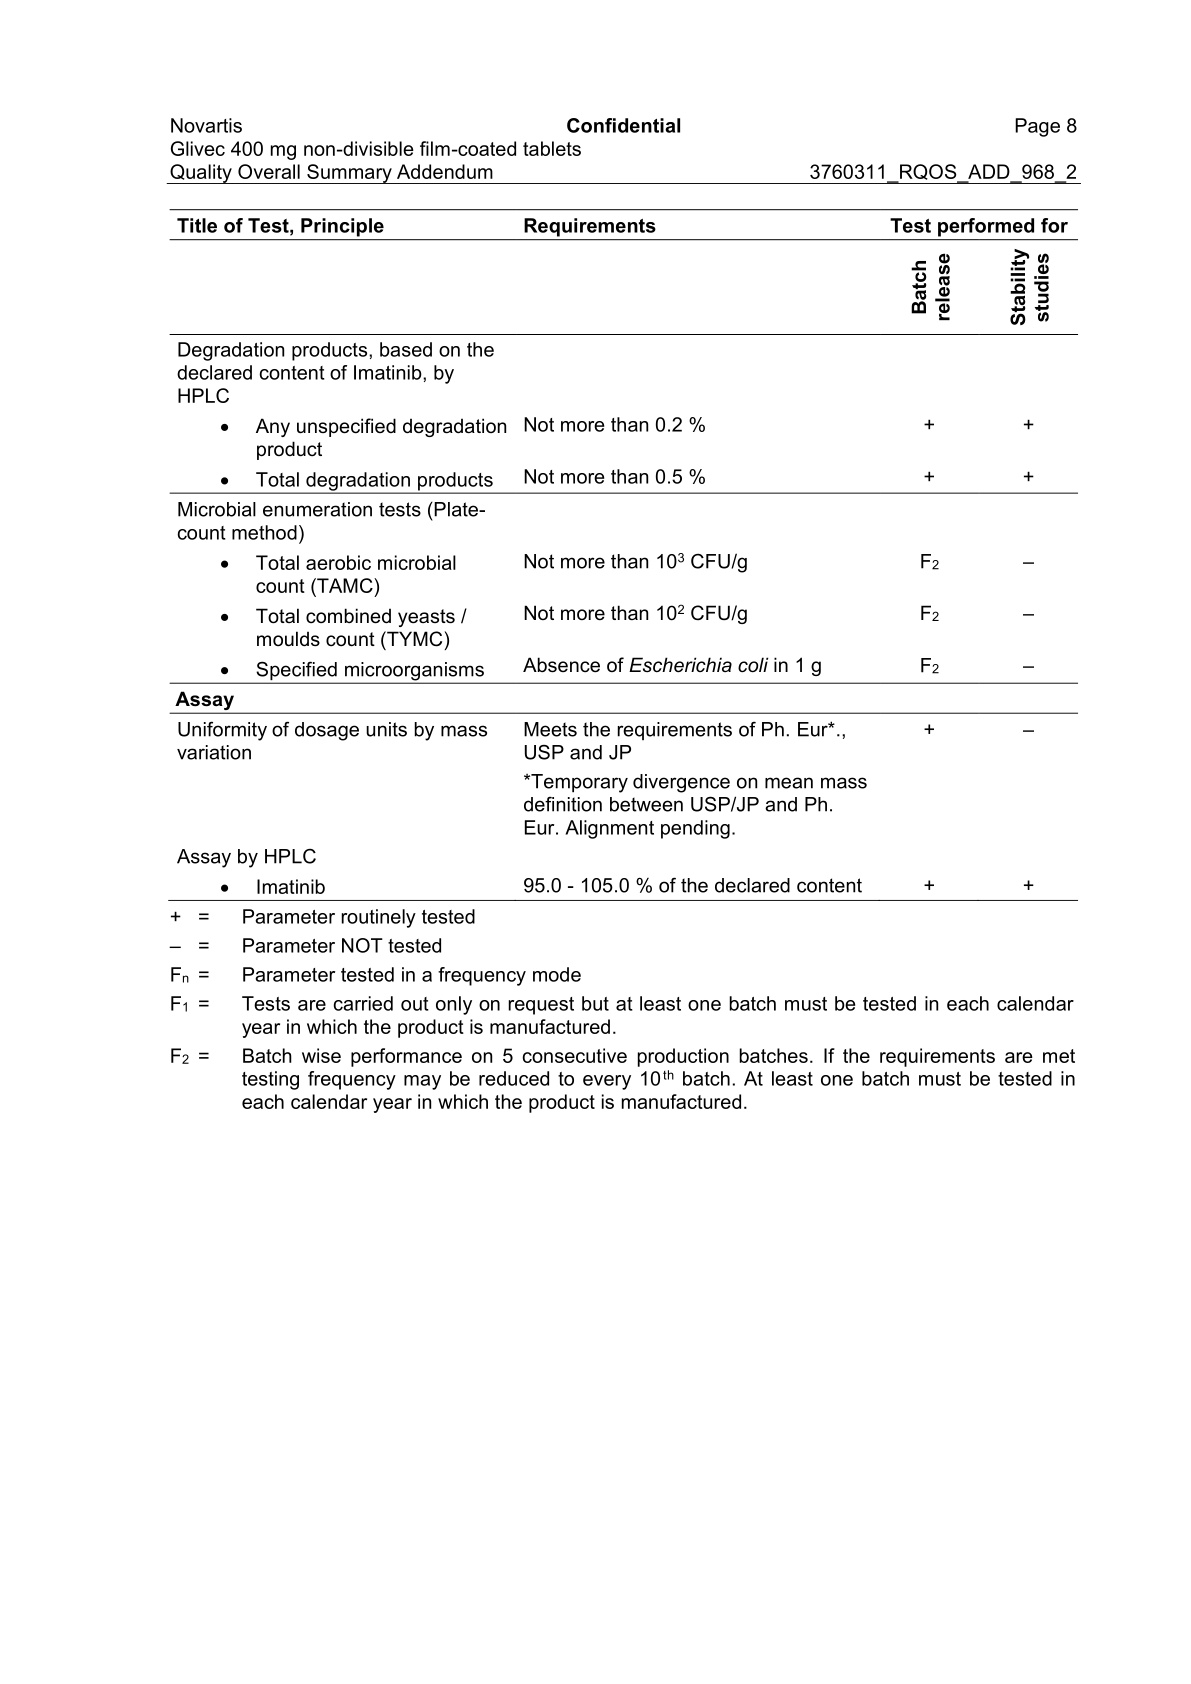partial_lined_merged_cells: (166, 207, 1079, 903)
